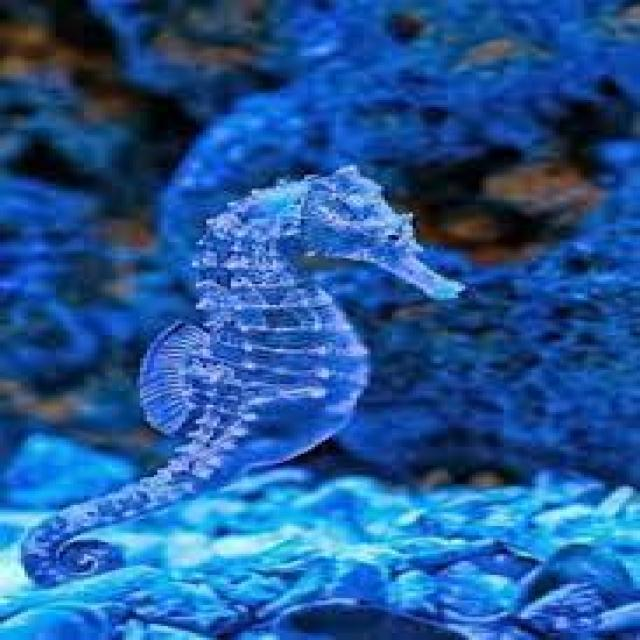SeaHorse: (21, 168, 455, 592)
